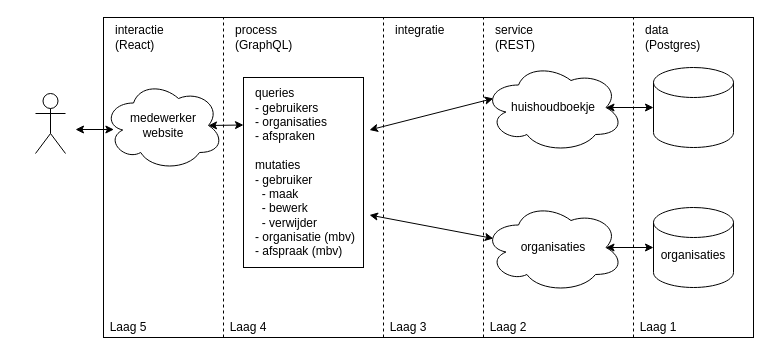
The diagram is 771 pixels wide and 356 high, and some of its shapes have lost their labels. Each missing label, with the centre of its shape:
gemeente medewerker: (50,123)
hhb: (693,107)
